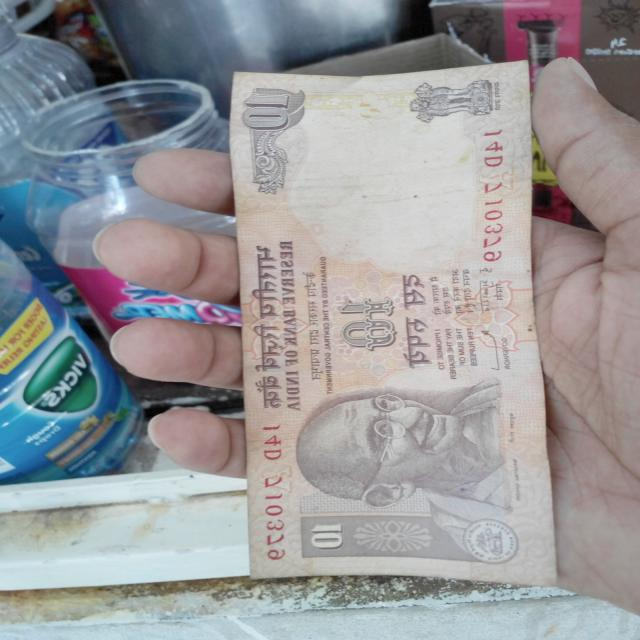10rs: (227, 57, 532, 590)
